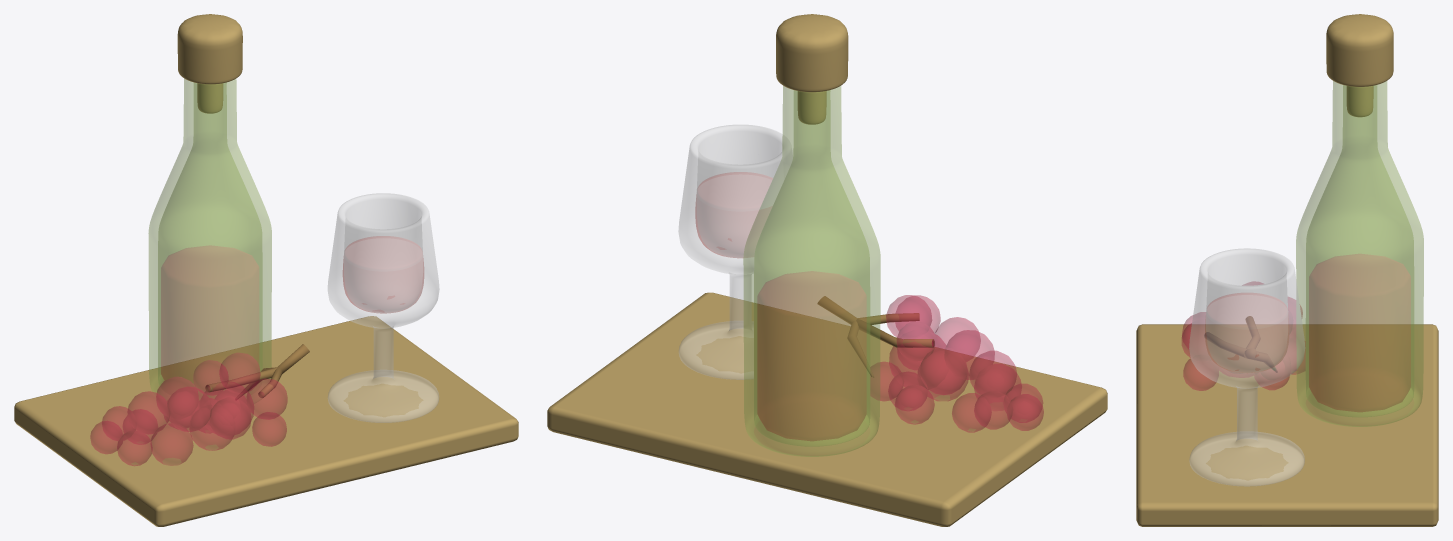
The model's file is wine_bottle.glb.
3 views of the same model, side by side, from view 1: azimuth 30°, elevation 25°; view 2: azimuth 150°, elevation 25°; view 3: azimuth 270°, elevation 25° (orthographic). The views are drawn at different scales.
Visible parts, largest first — view 1: tray, Vine Bottle, Vine Glass, Grapes; view 2: tray, Vine Bottle, Vine Glass, Grapes; view 3: tray, Vine Bottle, Vine Glass, Grapes.
Boxes of the visible parts, x1=… form: tray: x1=14, y1=316, x2=518, y2=526; Vine Bottle: x1=148, y1=14, x2=271, y2=403; Vine Glass: x1=328, y1=193, x2=439, y2=422; Grapes: x1=90, y1=344, x2=309, y2=465; tray: x1=547, y1=292, x2=1107, y2=526; Vine Bottle: x1=743, y1=14, x2=880, y2=456; Vine Glass: x1=678, y1=125, x2=792, y2=379; Grapes: x1=817, y1=295, x2=1043, y2=432; tray: x1=1136, y1=324, x2=1438, y2=526; Vine Bottle: x1=1296, y1=14, x2=1423, y2=426; Vine Glass: x1=1189, y1=248, x2=1304, y2=486; Grapes: x1=1182, y1=281, x2=1305, y2=390.
Bounding box in the file's own units: 2.87 × 2.93 × 1.99.
